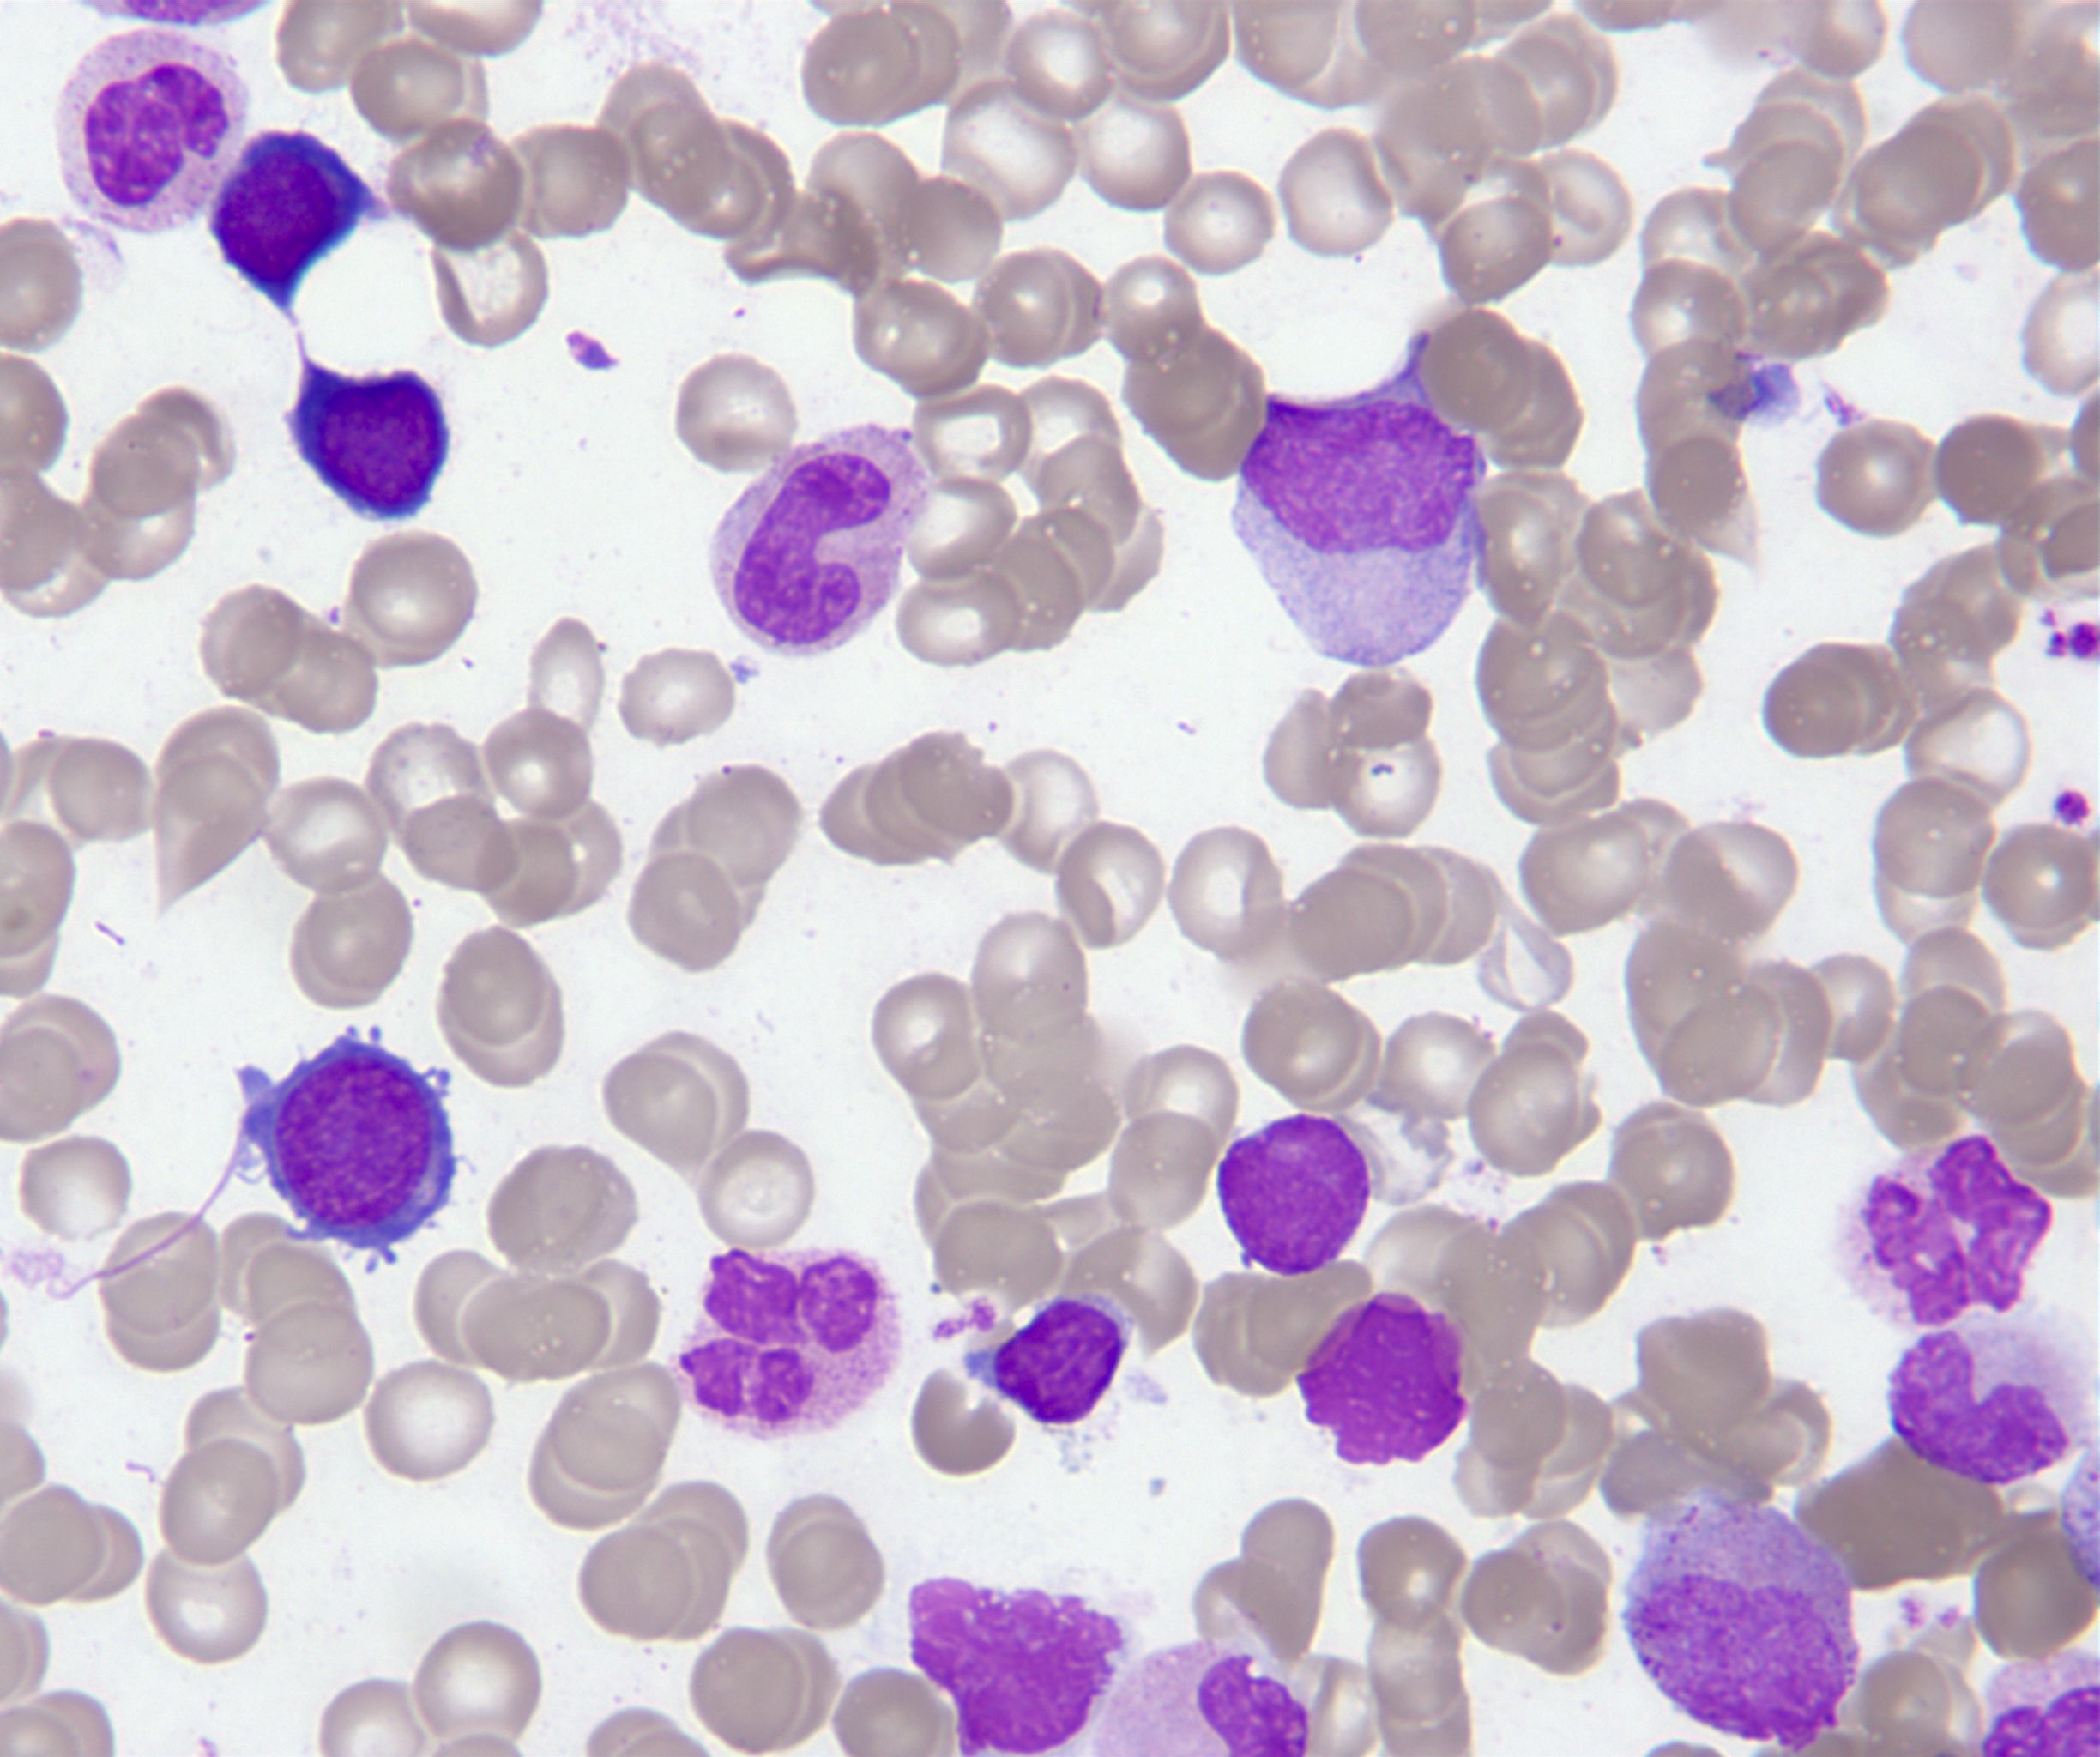23: (227, 1021, 462, 1274), (199, 124, 396, 326), (279, 335, 459, 527)
3: (1219, 319, 1491, 670)
32: (958, 1284, 1139, 1434)
4: (699, 414, 937, 663)
5: (47, 23, 255, 239)
x: (1615, 1492, 1863, 1757), (666, 1239, 917, 1443), (1830, 1124, 2058, 1331), (900, 1567, 1132, 1757), (1885, 1310, 2100, 1494), (1292, 1288, 1477, 1473), (1205, 1106, 1380, 1291)
